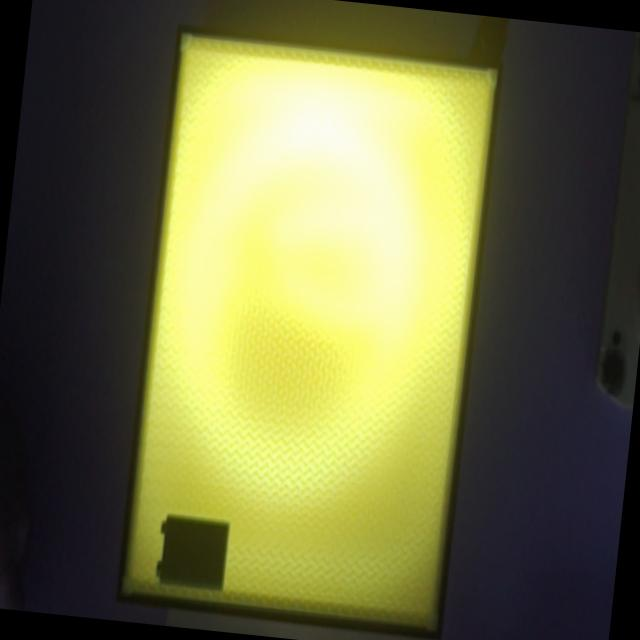bateria: (155, 513, 228, 591)
mesa: (116, 23, 504, 638)
